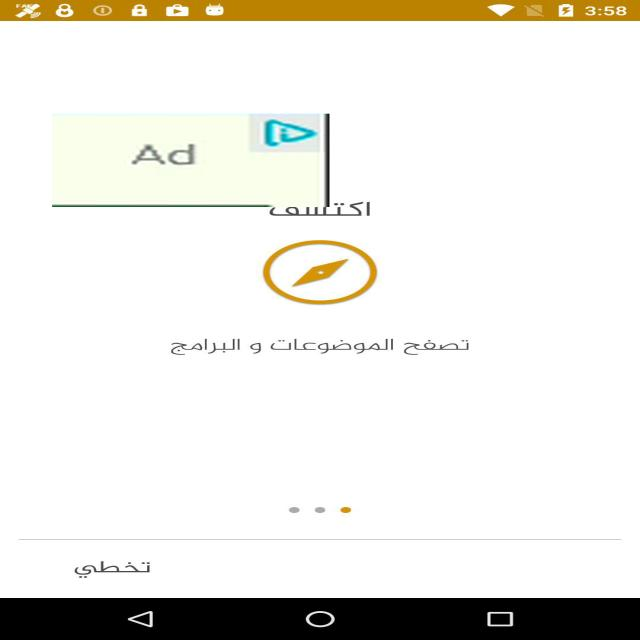sneaking: (52, 114, 330, 207)
